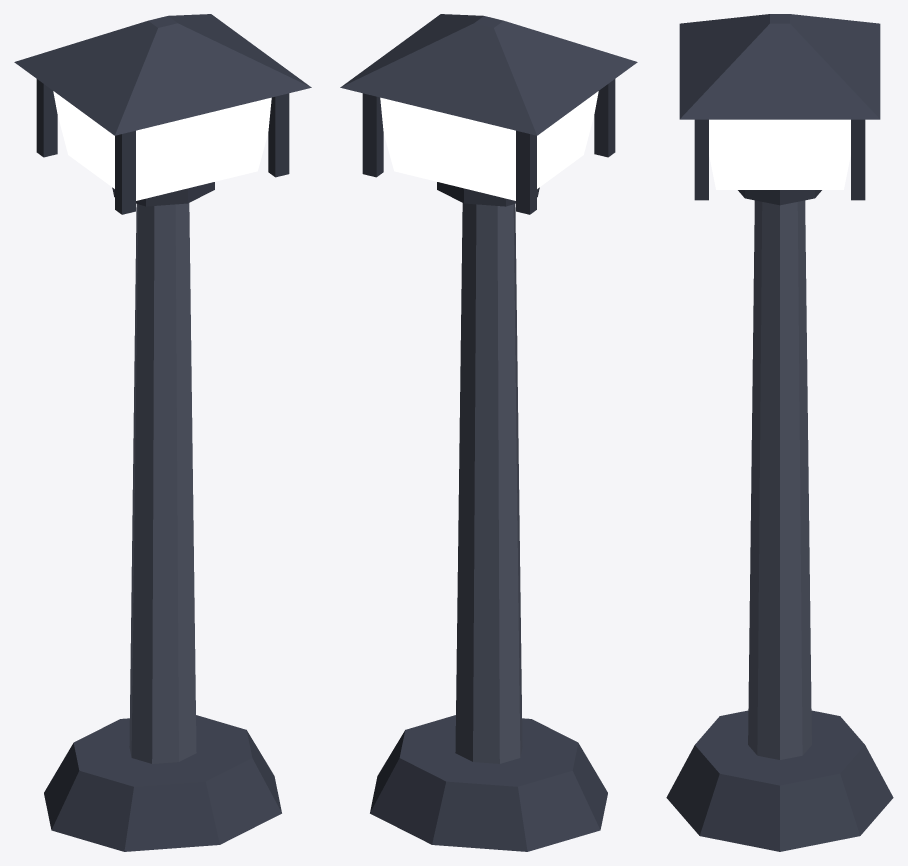
Rendered from lantern.glb.
The picture shows the model from 3 angles, left to right: view 1: azimuth 30°, elevation 25°; view 2: azimuth 150°, elevation 25°; view 3: azimuth 270°, elevation 25°; orthographic projection.
Visible parts, largest first — view 1: lantern; view 2: lantern; view 3: lantern.
Part boxes in pixels (x1,y1,x2,y2): lantern: [14, 14, 311, 851]; lantern: [340, 14, 637, 851]; lantern: [666, 14, 893, 851].
Size of the model in its own units: 0.52 by 1.74 by 0.46.
1 material, 1 textured.
